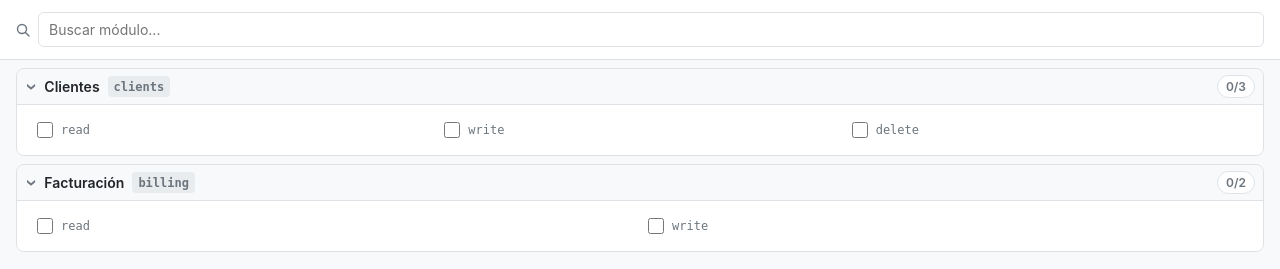
Test case: PermissionMatrix — search › filters modules by code when search query is typed
Type "billing" into the search field with placeholder "Buscar módulo..." at (651, 30), box [38,12,1264,47]
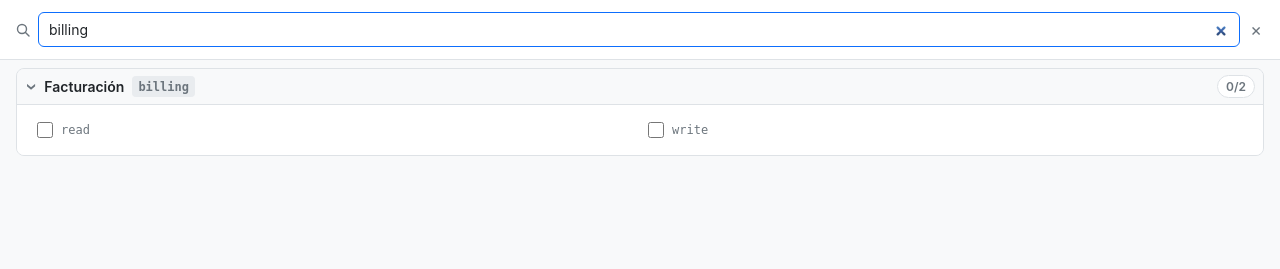
Expected: the text "Facturación" is shown, [44,76,124,97]
Now the button "Clientes" is gone
